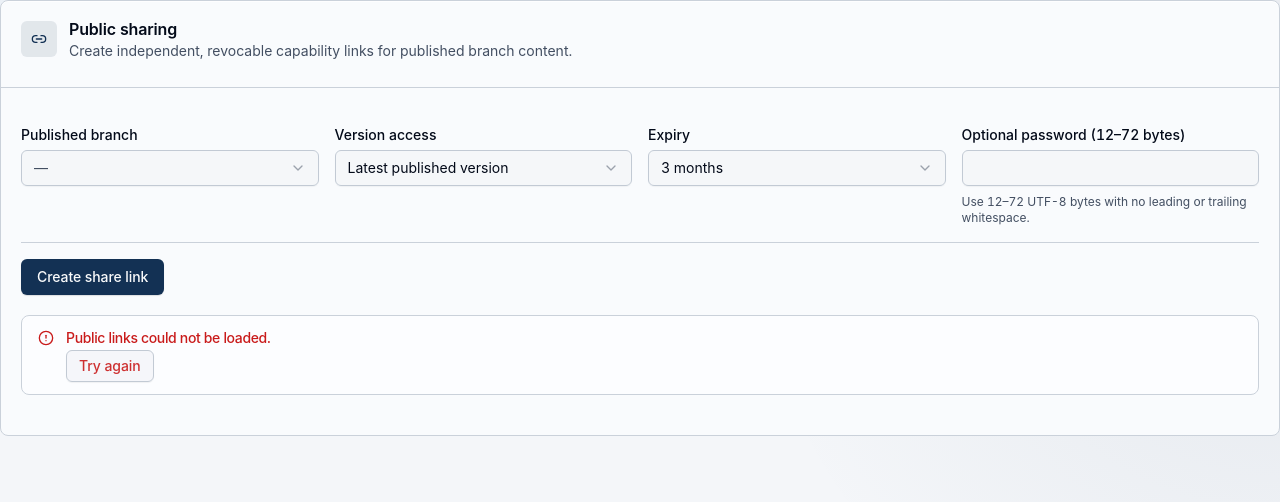
DocumentSharePanel › shows a list failure and retries without claiming there are no shares
The width and height of the screenshot is (1280, 502).
Expected: the text "Public links could not be loaded." is shown, [66, 329, 270, 346]
Click the button "Try again": (110,366) [66, 350, 154, 382]
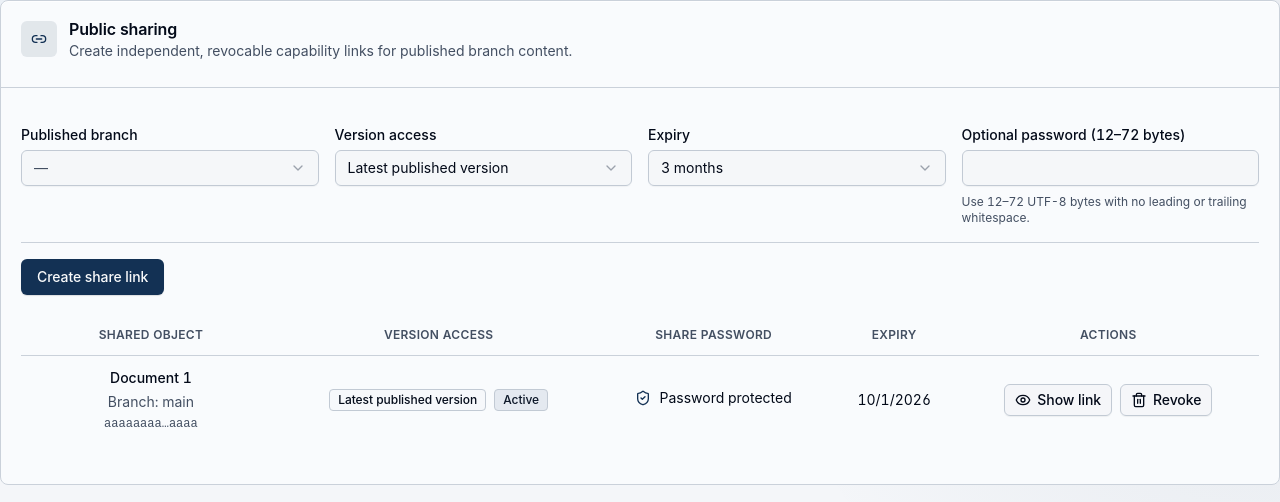
Now the button "Show link" is enabled, box [1004, 384, 1112, 416]
Now the text "Public links could not be loaded." is gone
